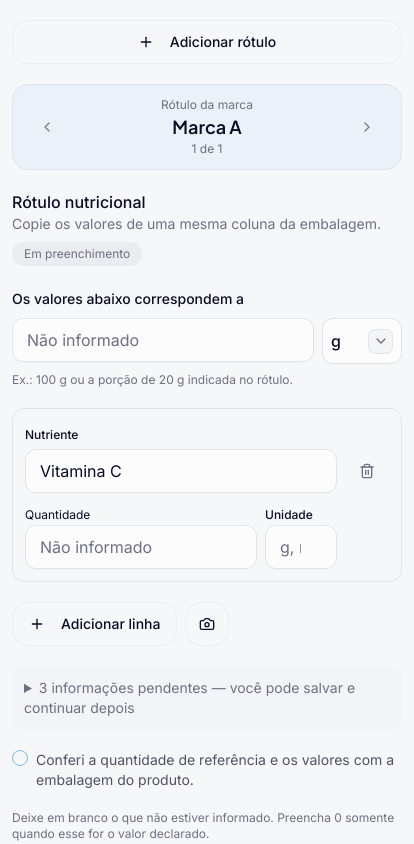
Test: nutrition labels by brand › asks which brand, keeps free-text values separate and navigates with arrows
Earlier steps of the test are not shown.
In the field named "Quantidade de Vitamina C": (141, 547) top-left (25, 525), bottom-right (257, 569), type "0"
In the field named "Unidade de Vitamina C": (301, 547) top-left (265, 525), bottom-right (337, 569), type "mg"
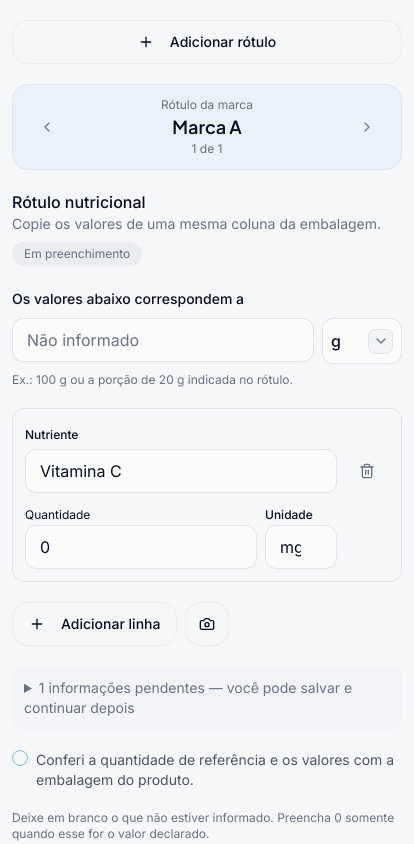
Click the button "Adicionar rótulo": (207, 42) top-left (12, 20), bottom-right (402, 64)
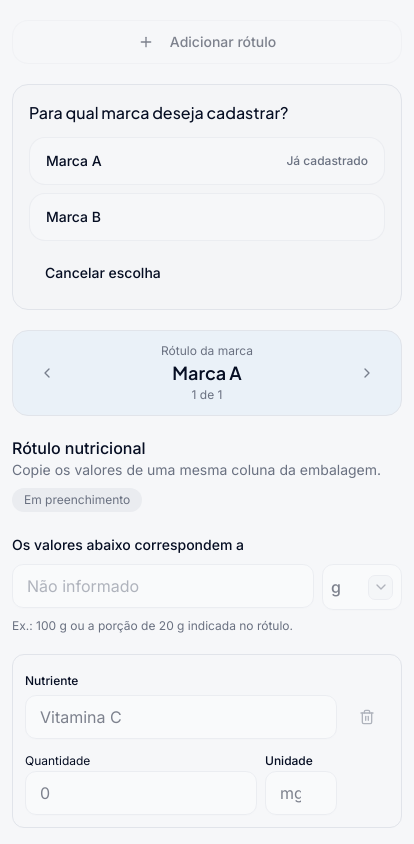
Click the button "Marca B": (73, 216) top-left (29, 193), bottom-right (385, 241)
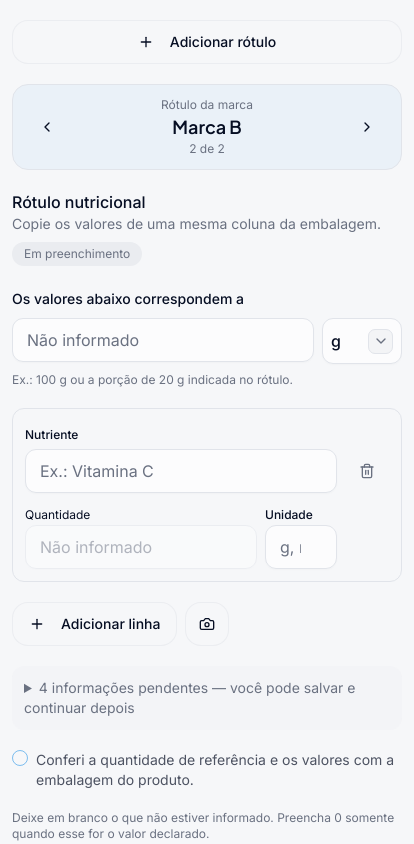
Expected: the heading "Marca B" is shown, top-left (172, 115), bottom-right (242, 138)
Expected: the field named "Nutriente 1" is empty
In the field named "Nutriente 1": (181, 471) top-left (25, 449), bottom-right (337, 493), type "Cálcio"
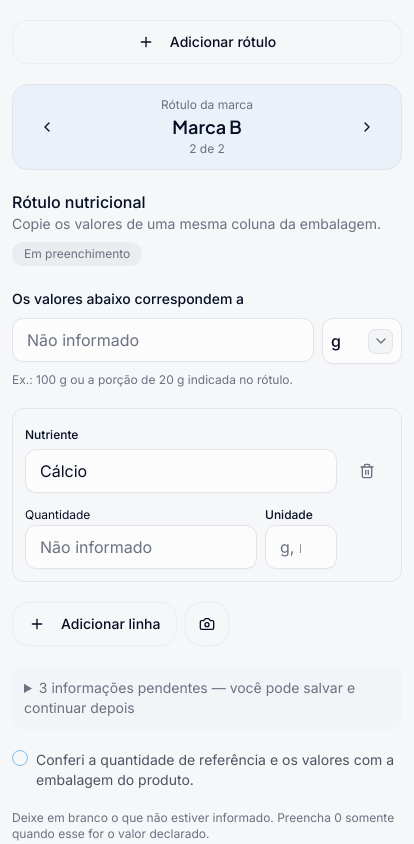
Click the button named "Rótulo da marca anterior": (47, 127) top-left (25, 105), bottom-right (69, 149)
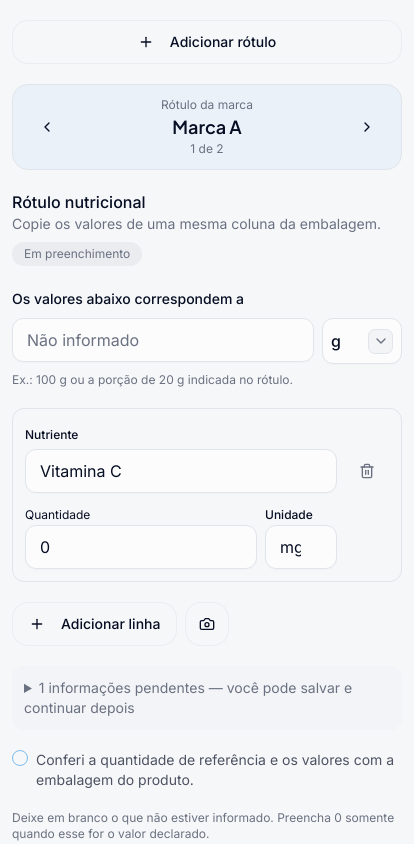
Expected: the heading "Marca A" is shown, top-left (172, 115), bottom-right (242, 138)
Expected: the field named "Quantidade de Vitamina C" holds "0", top-left (25, 525), bottom-right (257, 569)
Click the button named "Rótulo da próxima marca": (367, 127) top-left (345, 105), bottom-right (389, 149)
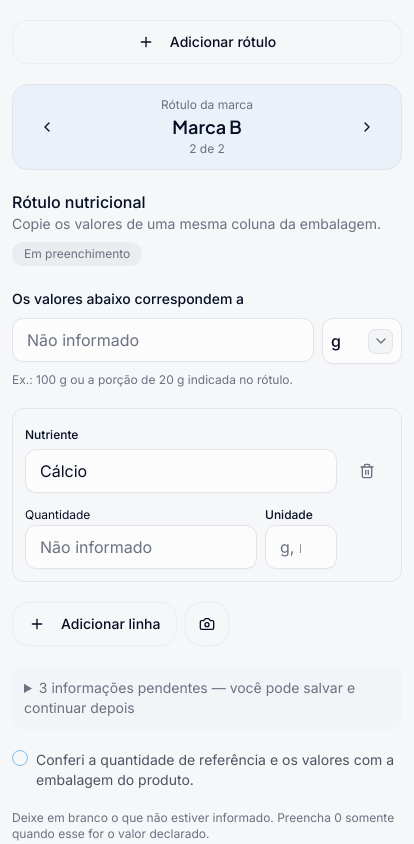
Expected: the field named "Nutriente 1" holds "Cálcio", top-left (25, 449), bottom-right (337, 493)
